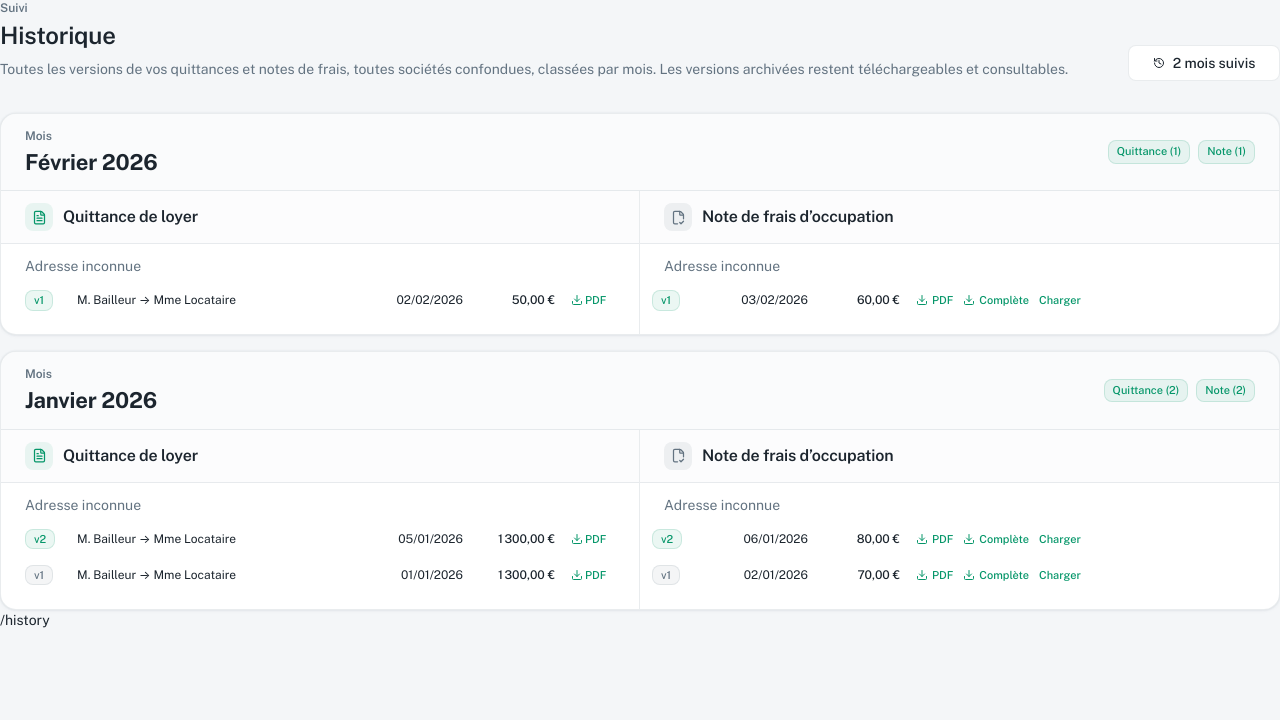
it: HistoryPage › reloads a statement version into the draft after confirmation
Check: the text "2 mois suivis" is shown, box [1128,45,1279,81]
What coordinates should you click on to do the following:
click the button "Charger" in the row of "06/01/2026"
I would click on:
 (1060, 539)
Its box is [1035,528,1085,550].
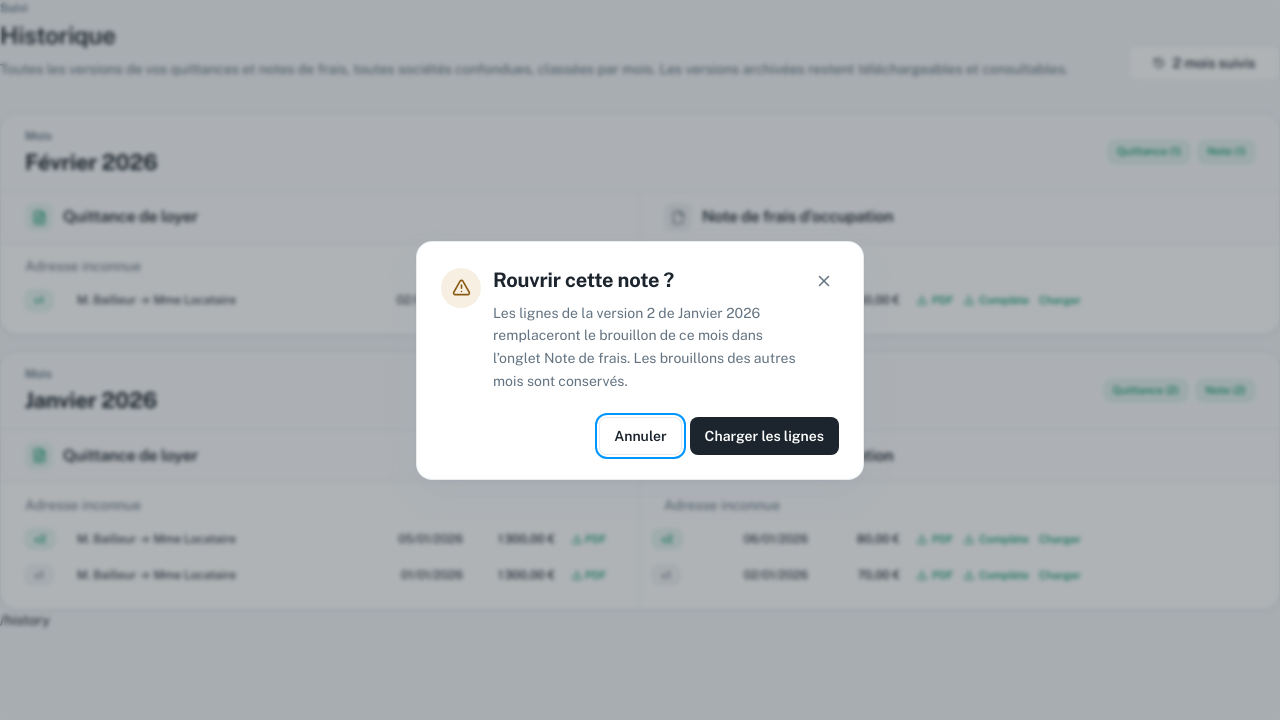
What coordinates should you click on to do the following:
click the button "Charger les lignes"
I would click on:
 (764, 436)
Its box is [690,416,839,454].
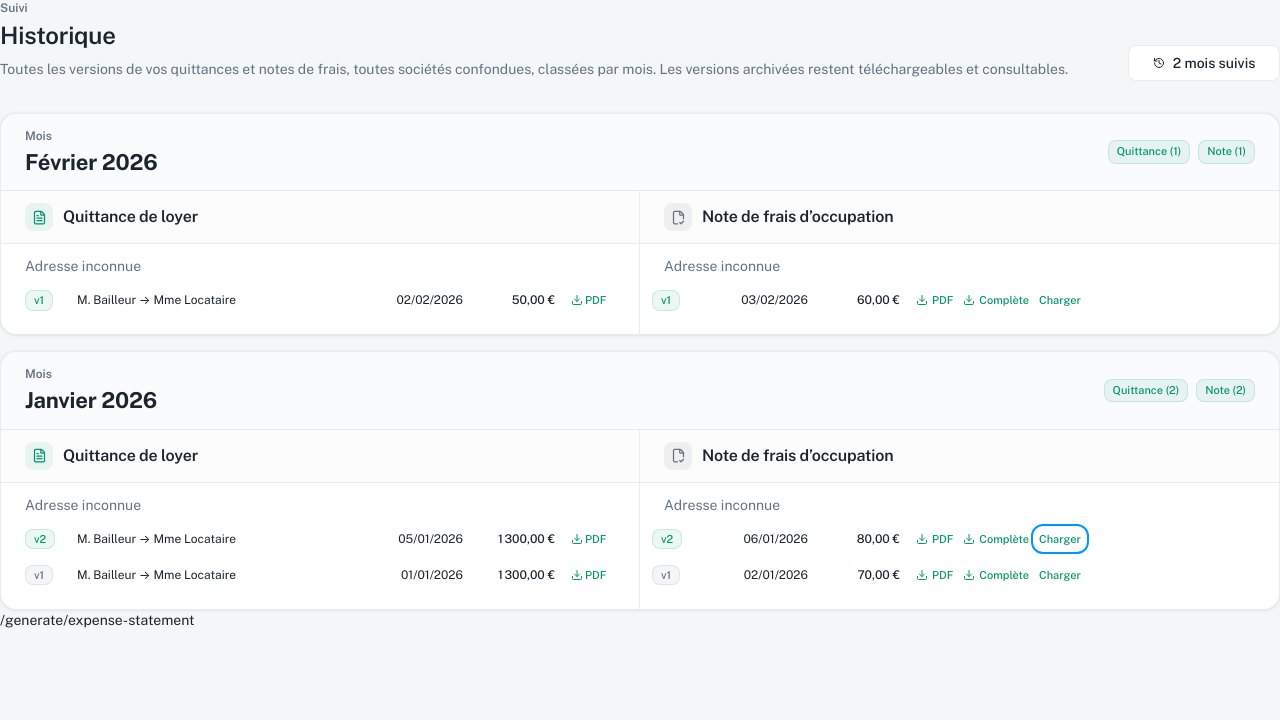
Check: the text with test id "rental" reads "/generate/expense-statement", box [0,612,194,628]
